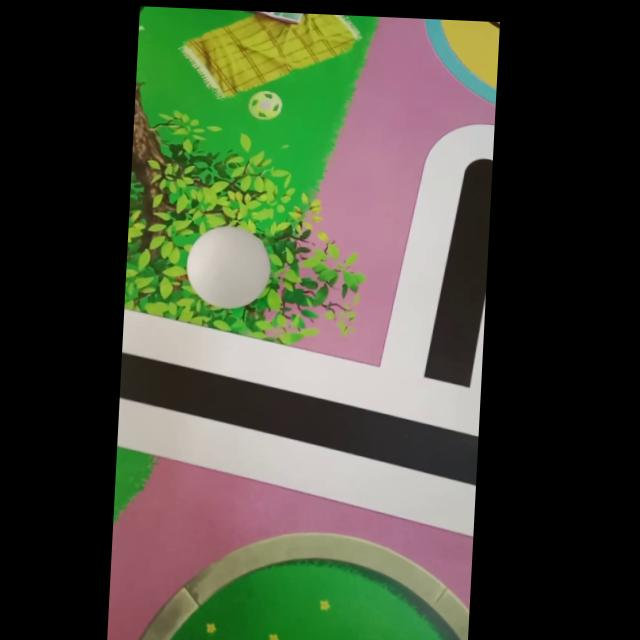white ball: (183, 221, 273, 313)
